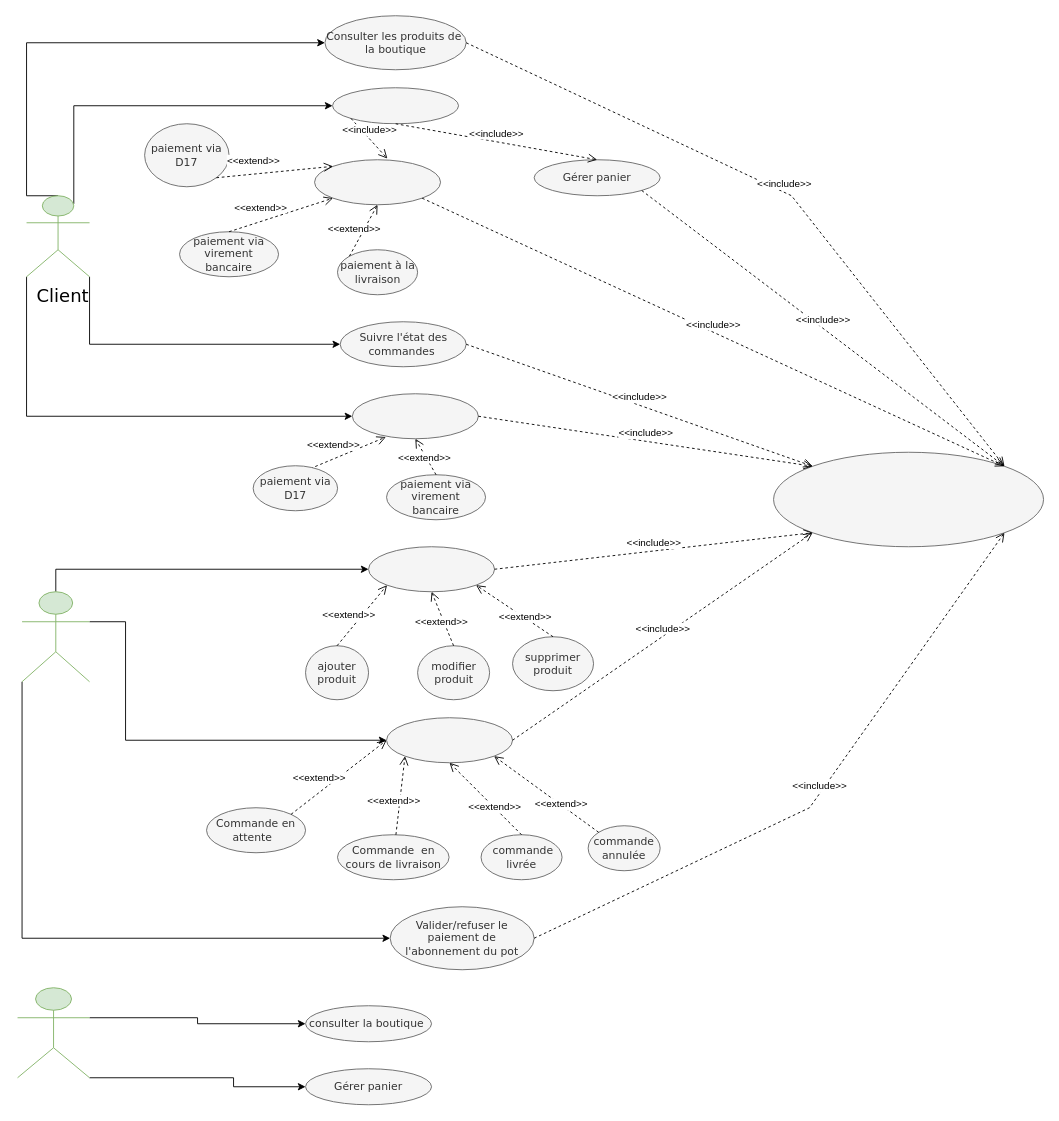
The diagram is 1059 pixels wide and 1121 high, and some of its shapes have lost their labels. The centre of each missing label's shape, as x and y in pixels:
Admin: [55,636]
Gérer la boutique: [431,569]
Gérer les commandes: [449,740]
Passer une commande: [395,105]
payer l'abonnement mensuel du pot: [414,416]
payer la commande: [377,182]
S'authentifier: [908,499]
Visiteur: [53,1032]
